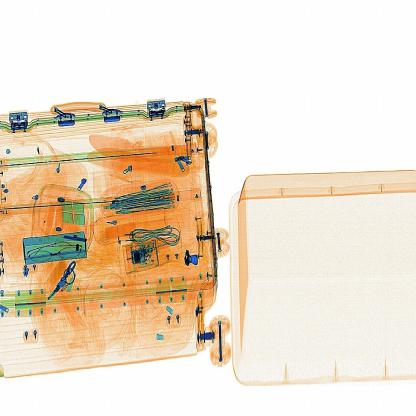wrench: (175, 245, 205, 277)
